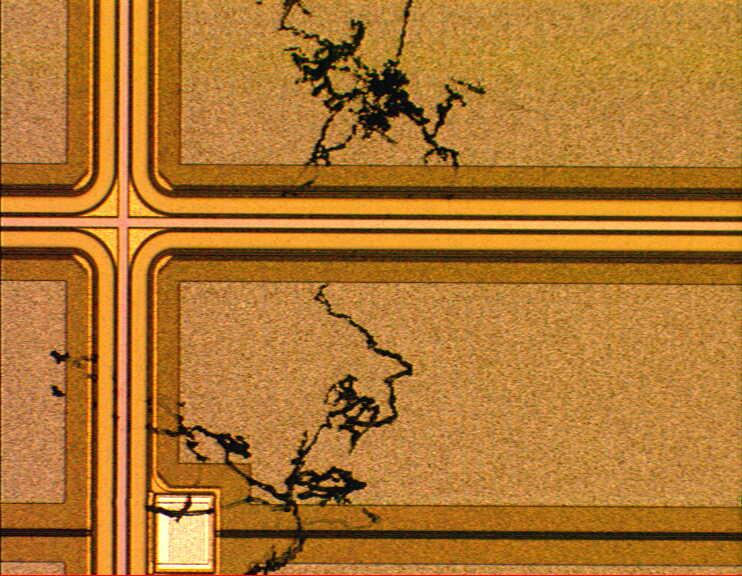SCRATCH: (37, 1, 493, 576)
